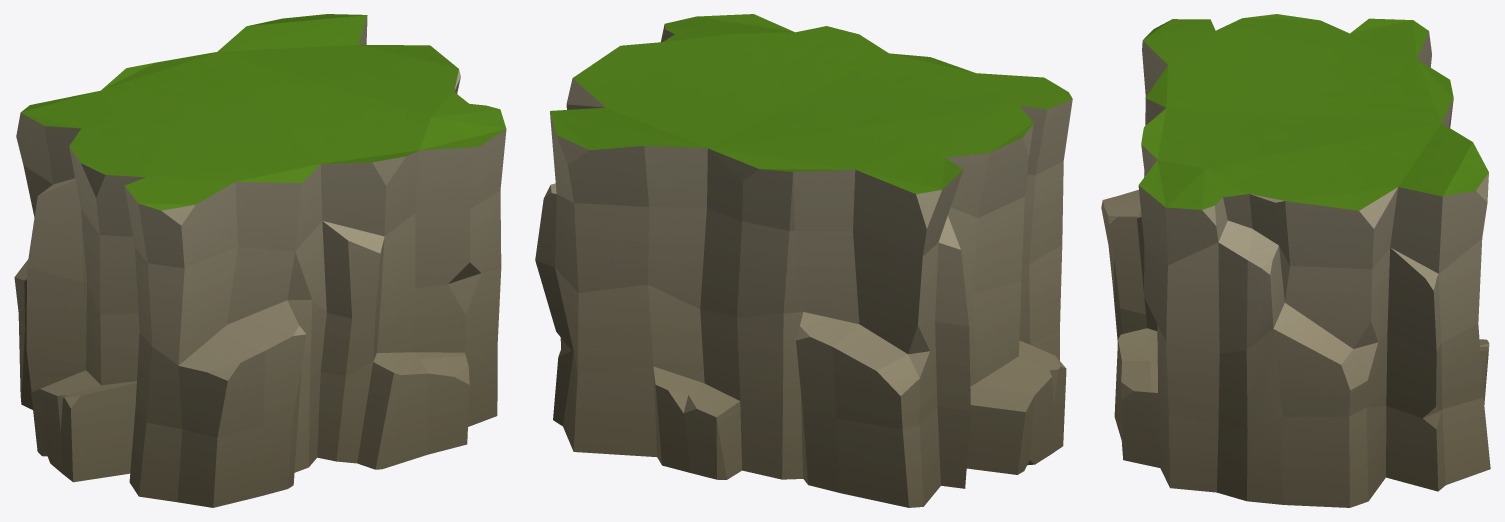
File: Rock_BigGrass_01.fbx
3 renders of one model, left to right at view 1: azimuth 30°, elevation 25°; view 2: azimuth 150°, elevation 25°; view 3: azimuth 270°, elevation 25°, orthographic. The views are drawn at different scales.
Visible parts, largest first — view 1: Rock_BigGrass_01; view 2: Rock_BigGrass_01; view 3: Rock_BigGrass_01.
Part boxes in pixels (bbox=[...]): Rock_BigGrass_01: bbox=[14, 14, 506, 507]; Rock_BigGrass_01: bbox=[535, 14, 1072, 507]; Rock_BigGrass_01: bbox=[1101, 14, 1490, 507].
Bounding box in the file's own units: 2596 × 1704 × 2006.
